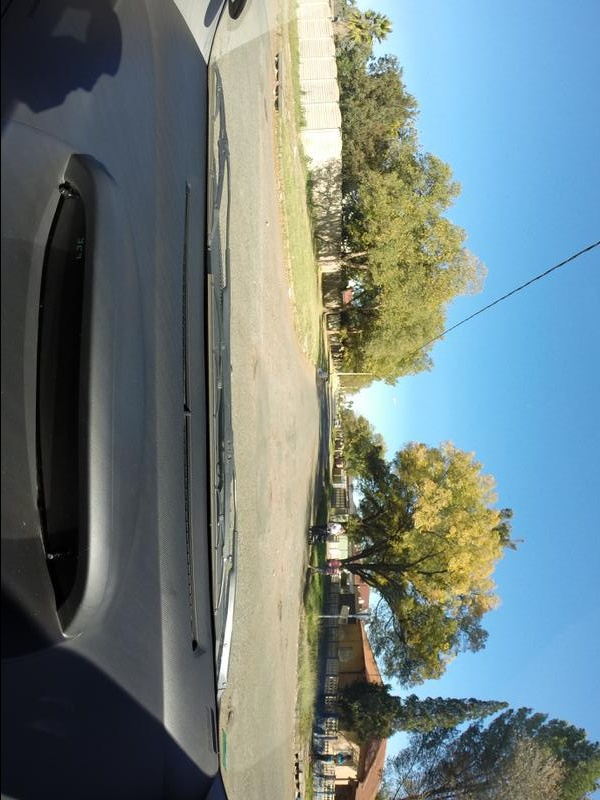pothole: (242, 362, 265, 390), (224, 701, 244, 727), (259, 486, 276, 514), (274, 595, 285, 627)
